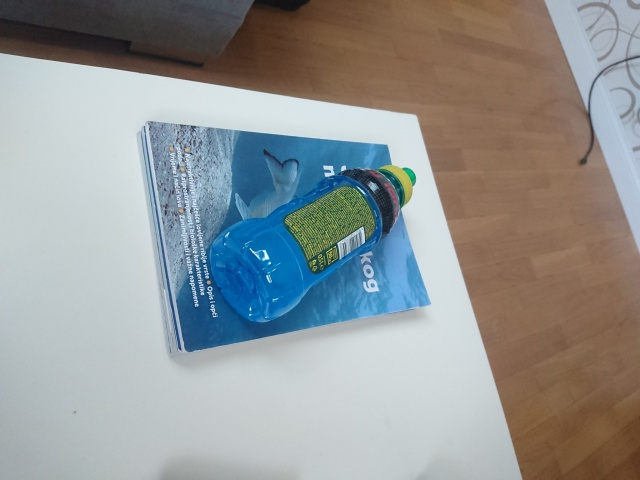Vindi Iso Sport Forest Strawberries 500mL: (206, 162, 418, 325)
